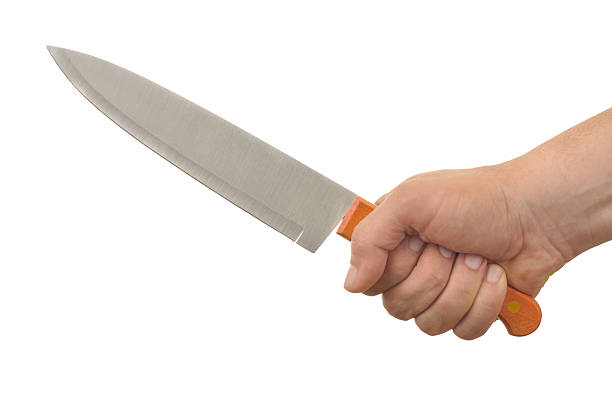knife: (45, 42, 545, 337)
